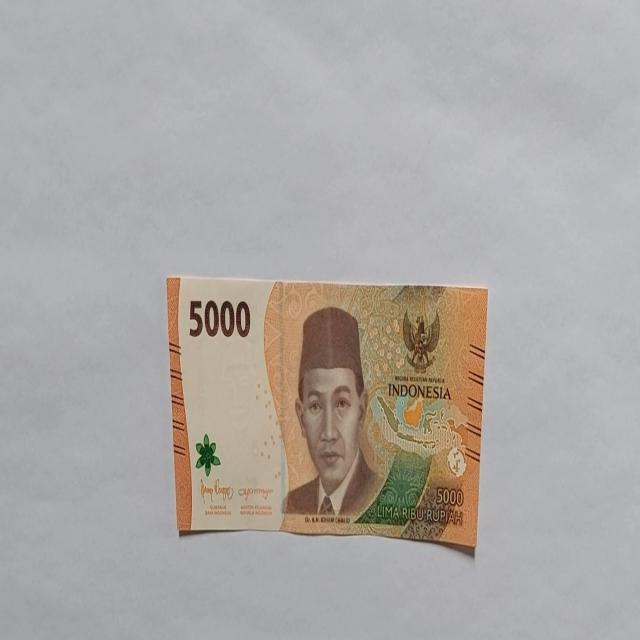lima ribu rupiah: (166, 274, 488, 554), (278, 305, 384, 522)
